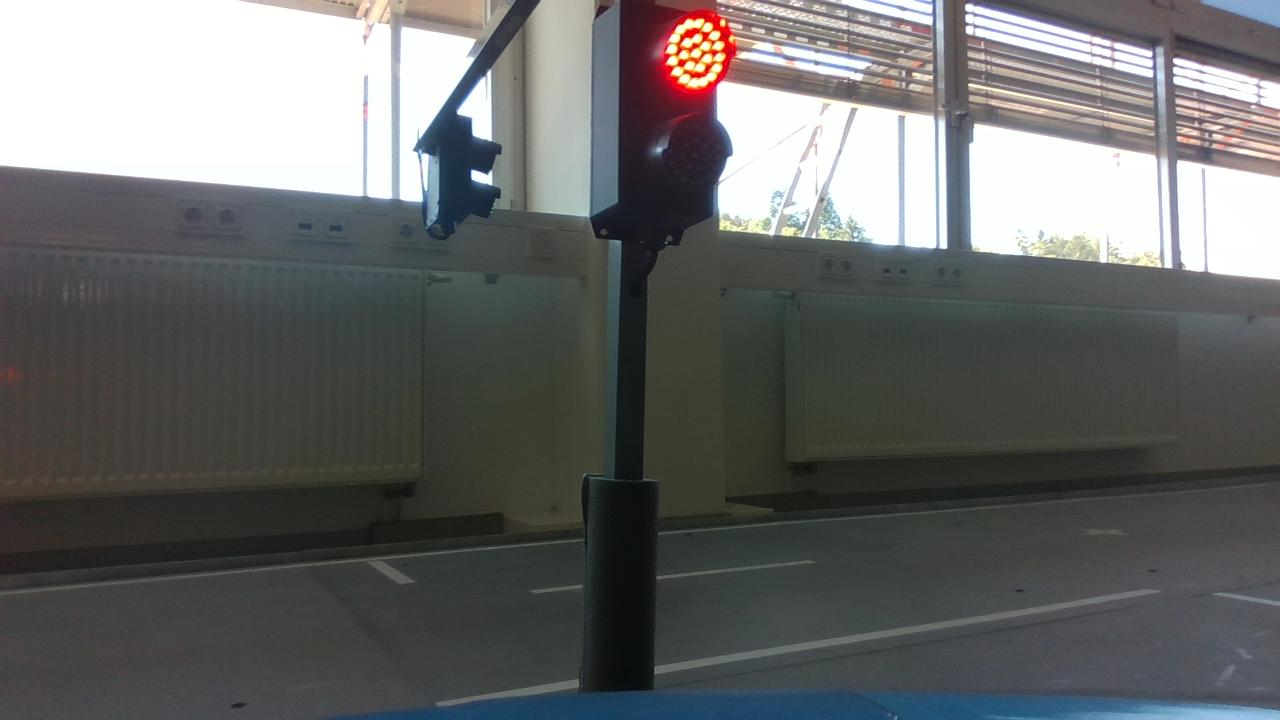traffic_light_red: (559, 1, 739, 275)
